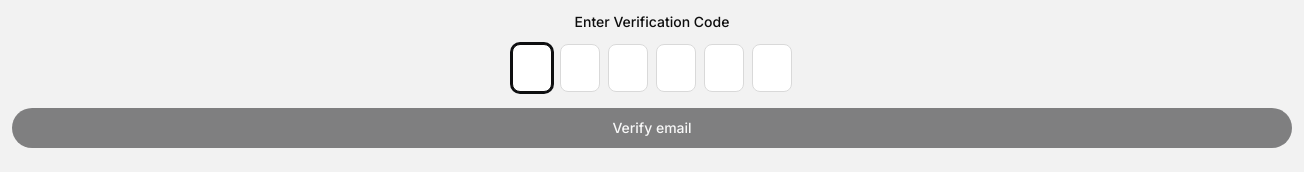
Scenario: OTPVerificationForm › enables submit button when OTP is complete
Type "1" into the field named "Digit 1" at (532, 68), box left=512, top=44, right=552, bottom=92
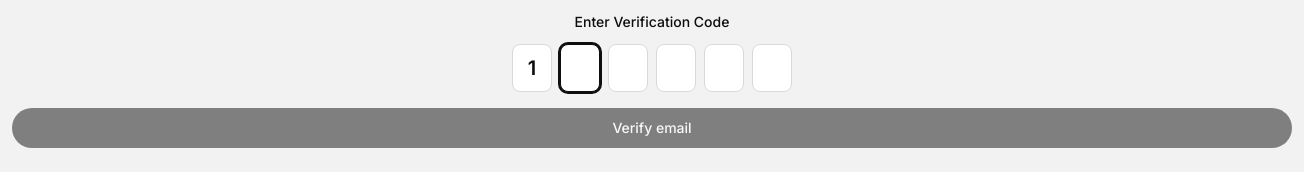
Type "2" into the field named "Digit 2" at (580, 68), box left=560, top=44, right=600, bottom=92
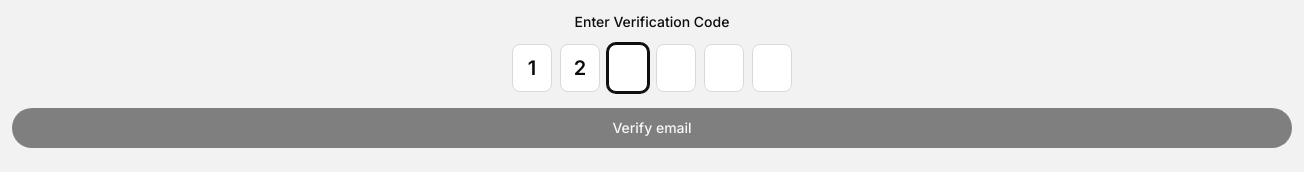
Type "3" into the field named "Digit 3" at (628, 68), box left=608, top=44, right=648, bottom=92
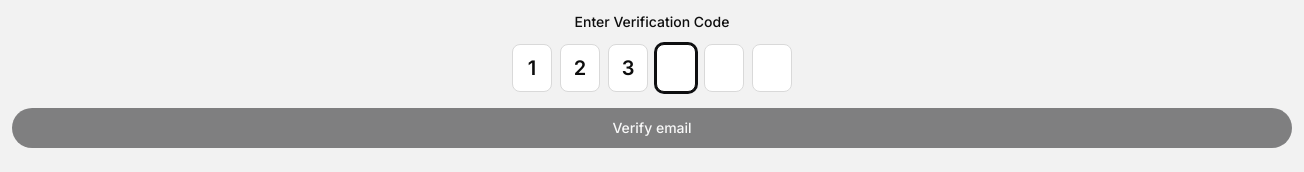
Type "4" into the field named "Digit 4" at (676, 68), box left=656, top=44, right=696, bottom=92
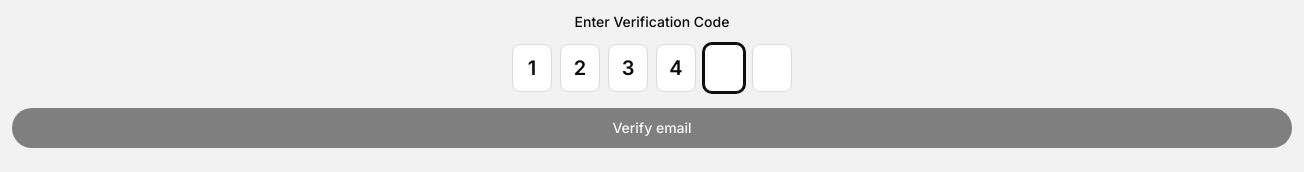
Type "5" into the field named "Digit 5" at (724, 68), box left=704, top=44, right=744, bottom=92
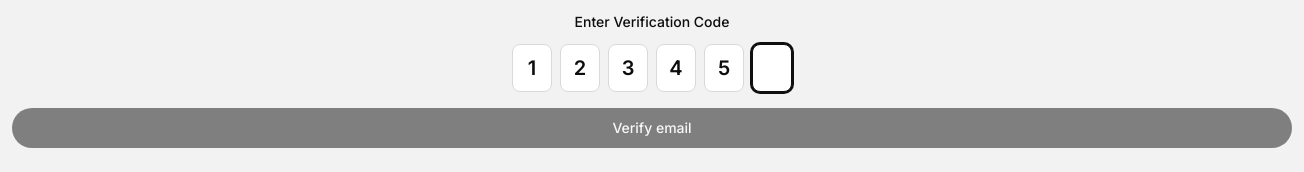
Type "6" into the field named "Digit 6" at (772, 68), box left=752, top=44, right=792, bottom=92
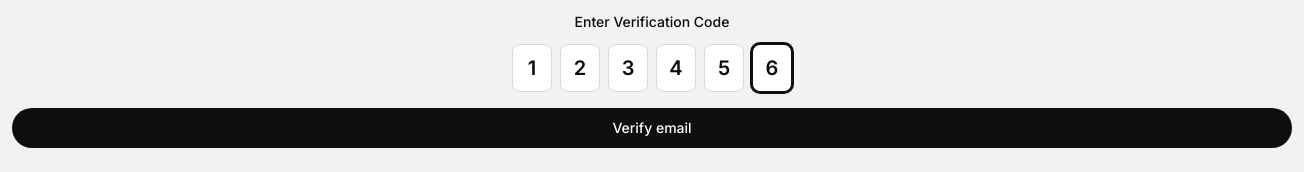
Expected: the button "Verify email" is enabled, left=12, top=108, right=1292, bottom=148
